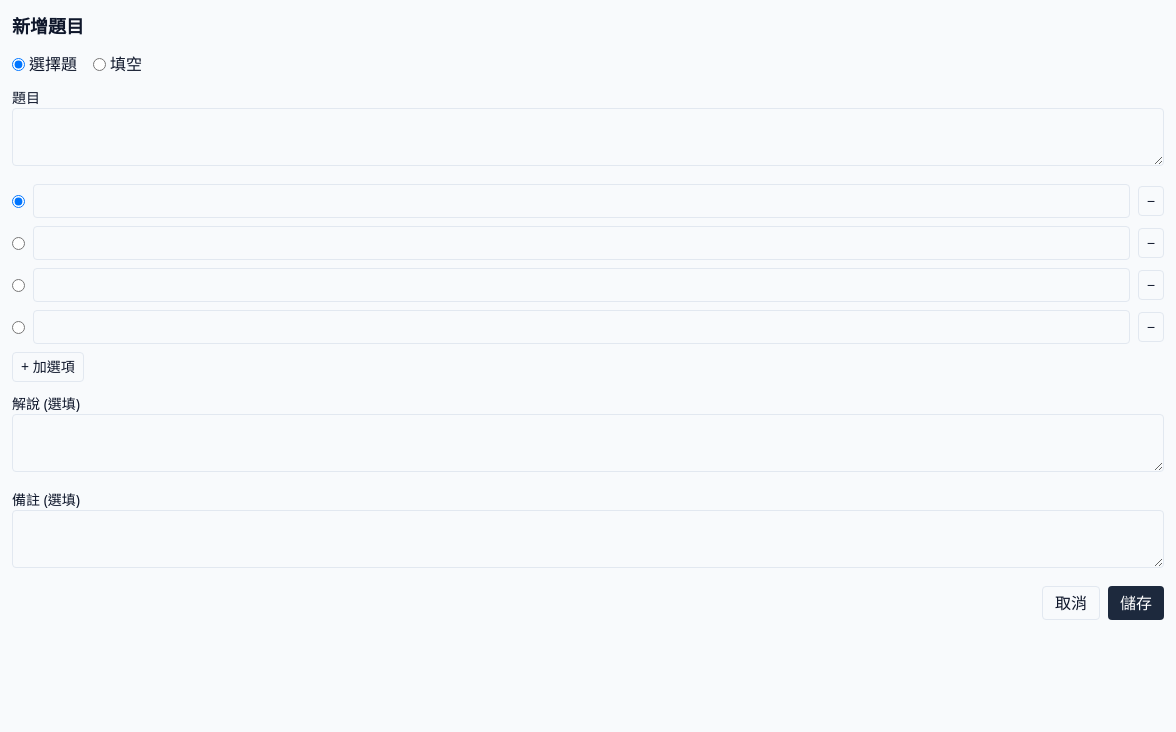
Test: QuestionEditor (create) › rejects FIB submit with no non-empty answers
Click the radio button labelled "填空" at point(100, 64), box [93,58,106,70]
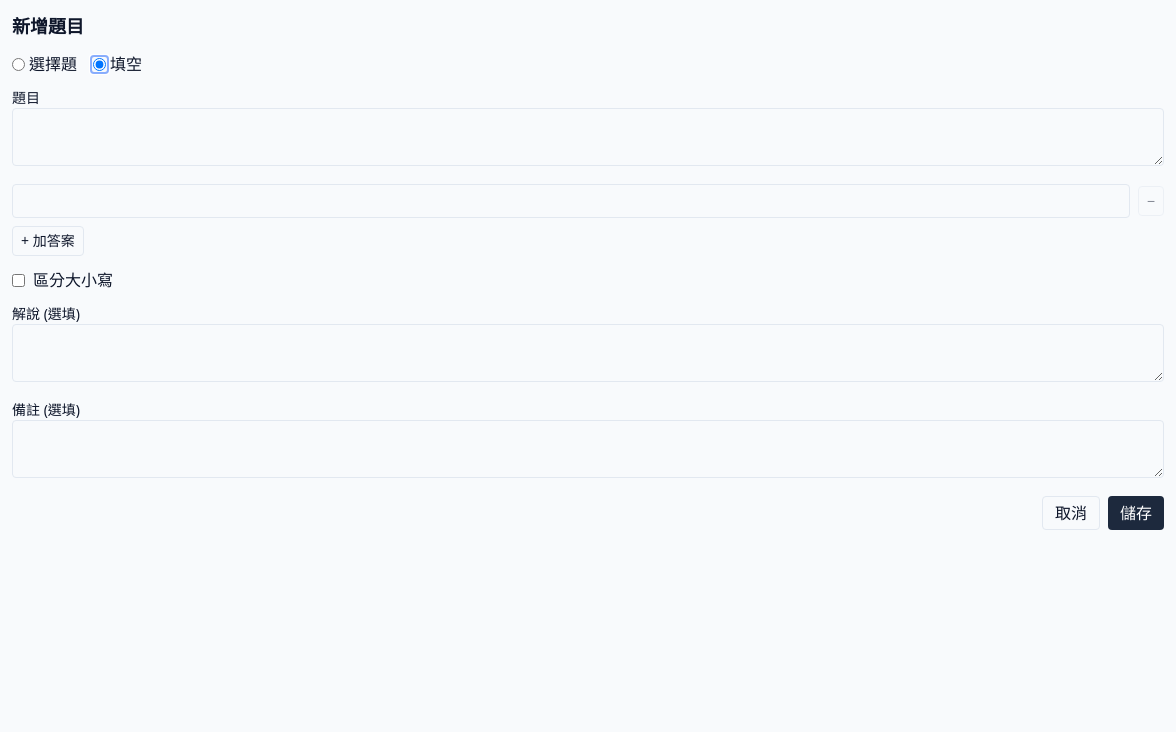
Type "p" into the text box labelled "題目" at point(588, 137), box [12,108,1164,166]
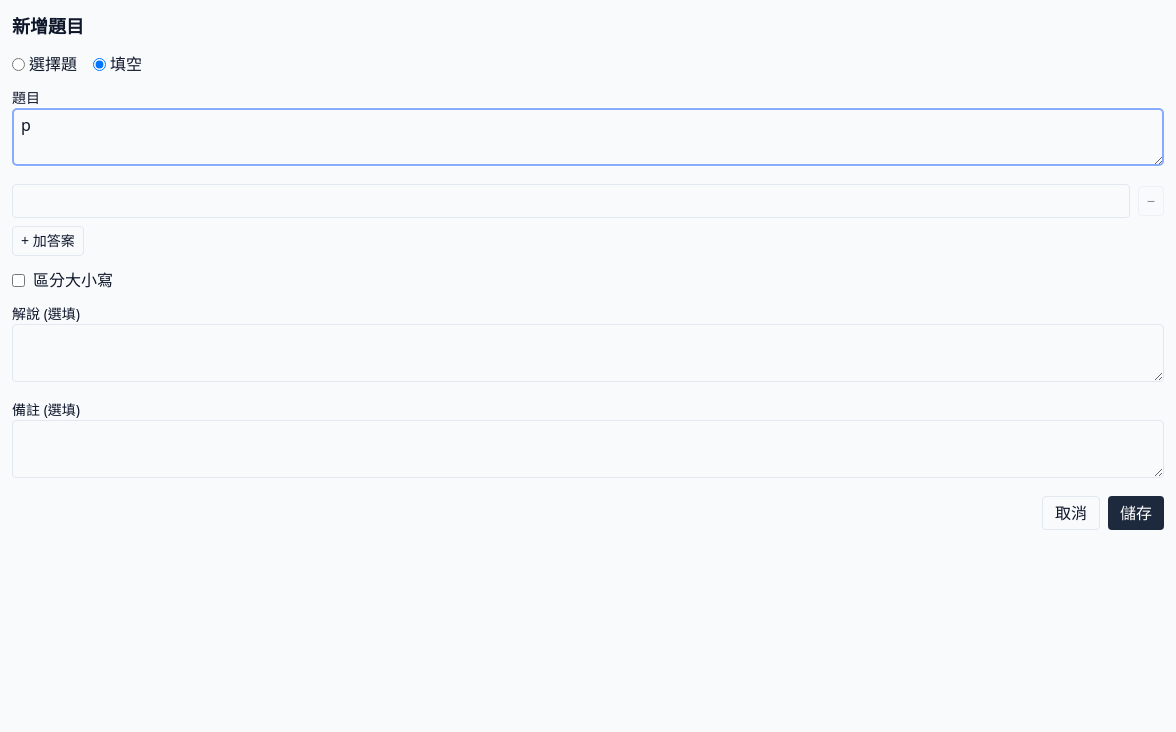
Click the button "儲存" at point(1136, 513), box [1108,496,1164,530]
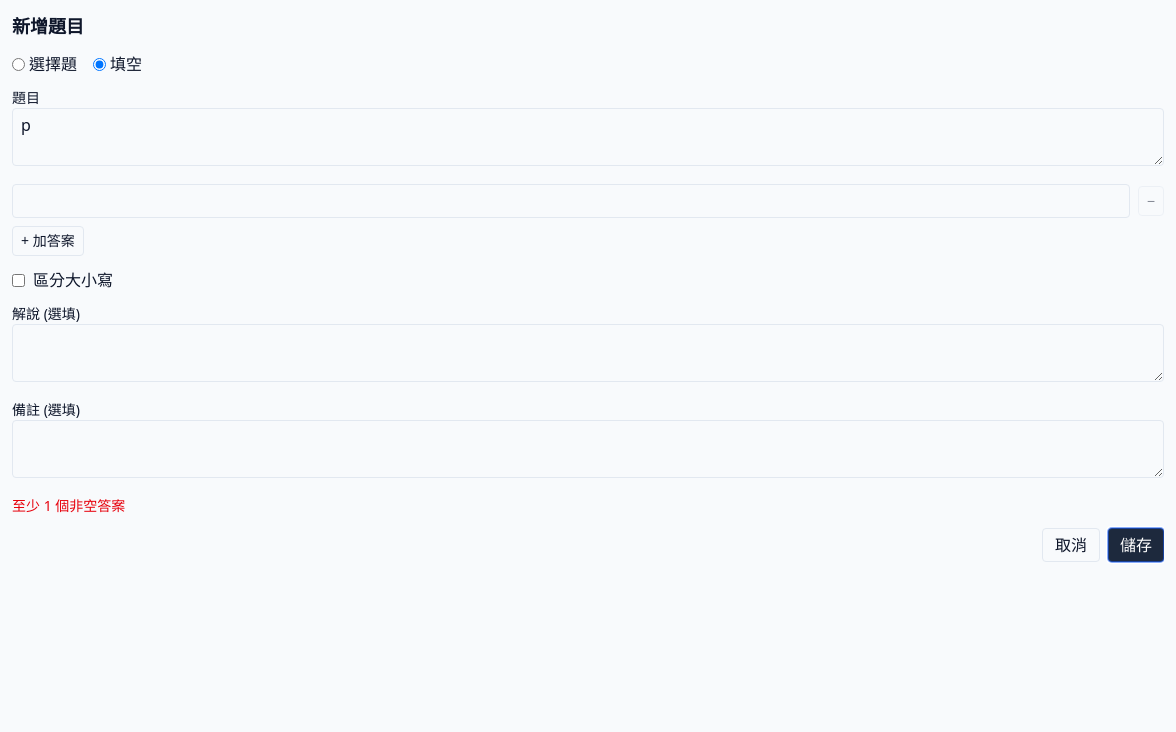
expect the text "至少 1 個非空答案" is shown: met, box [12,496,125,515]
